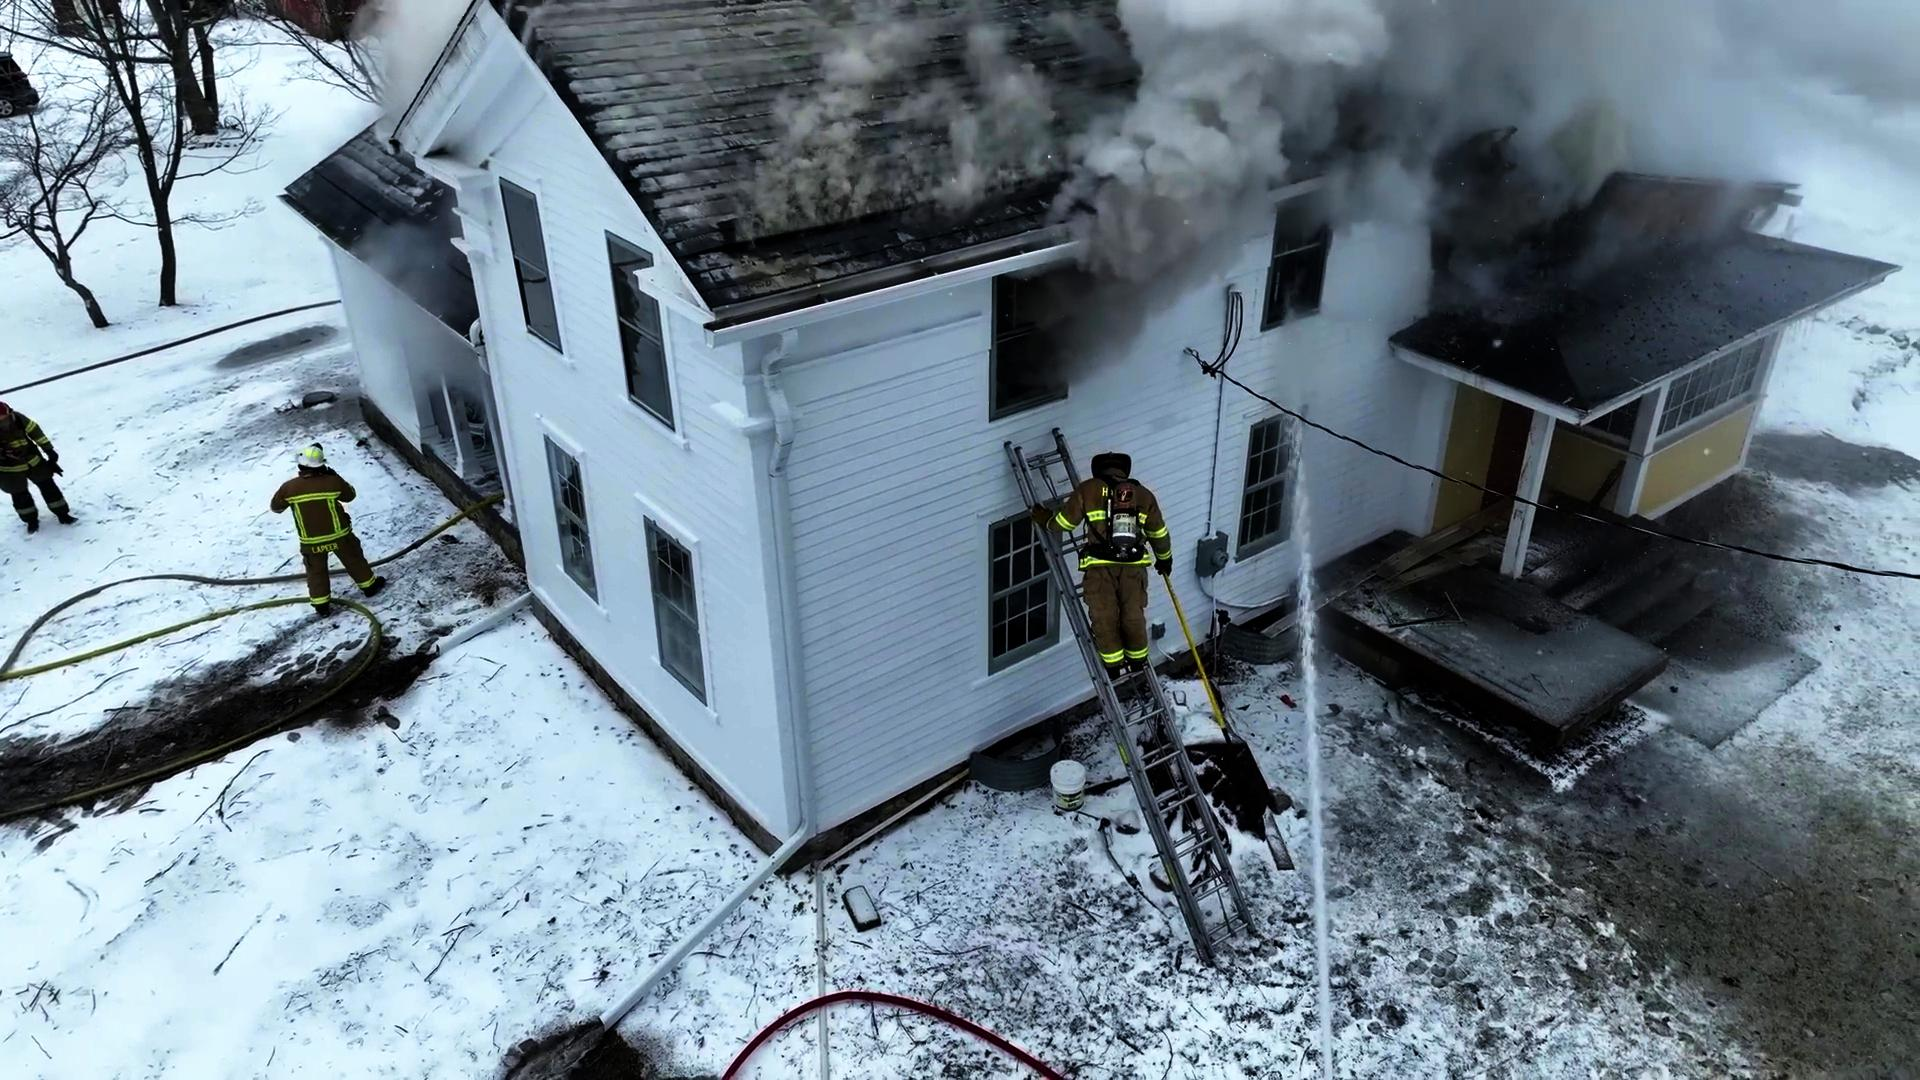smoke: (1174, 18, 1791, 138)
